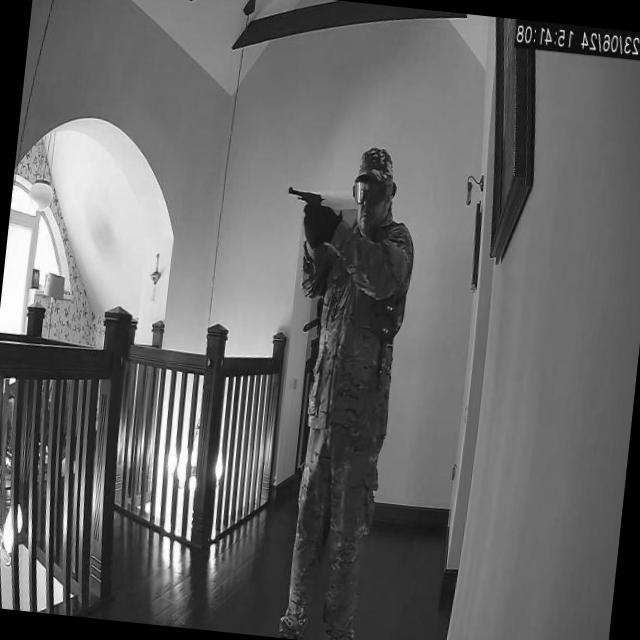gun: (282, 184, 324, 218)
person with a gun: (241, 135, 425, 640)
